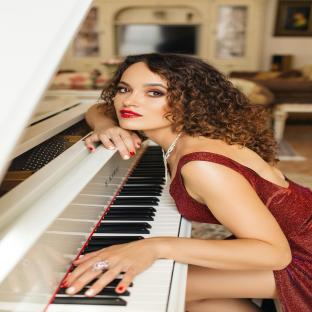Human: (64, 53, 312, 312)
